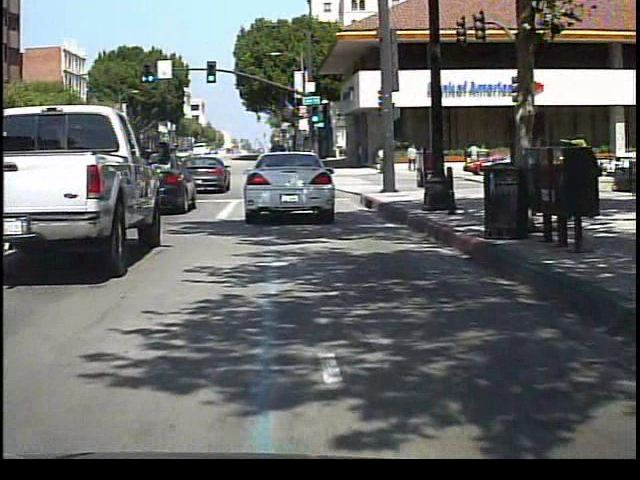person: (463, 139, 482, 173), (404, 142, 421, 175)
